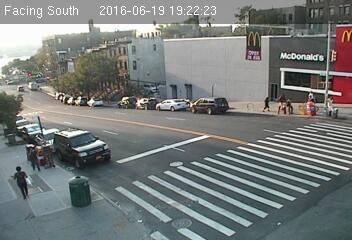neg: (66, 173, 99, 217), (236, 24, 267, 66), (247, 162, 274, 198), (316, 31, 341, 64), (277, 42, 301, 73), (56, 57, 79, 88), (174, 168, 195, 196), (199, 141, 219, 168), (133, 113, 153, 139), (308, 131, 327, 156), (218, 51, 237, 76), (31, 54, 50, 78), (77, 136, 95, 159), (204, 95, 221, 119), (154, 93, 170, 113), (104, 66, 119, 85), (173, 42, 188, 61), (302, 101, 316, 119)
pos: (8, 164, 37, 203), (25, 144, 43, 168), (273, 89, 290, 112), (259, 94, 274, 113)
